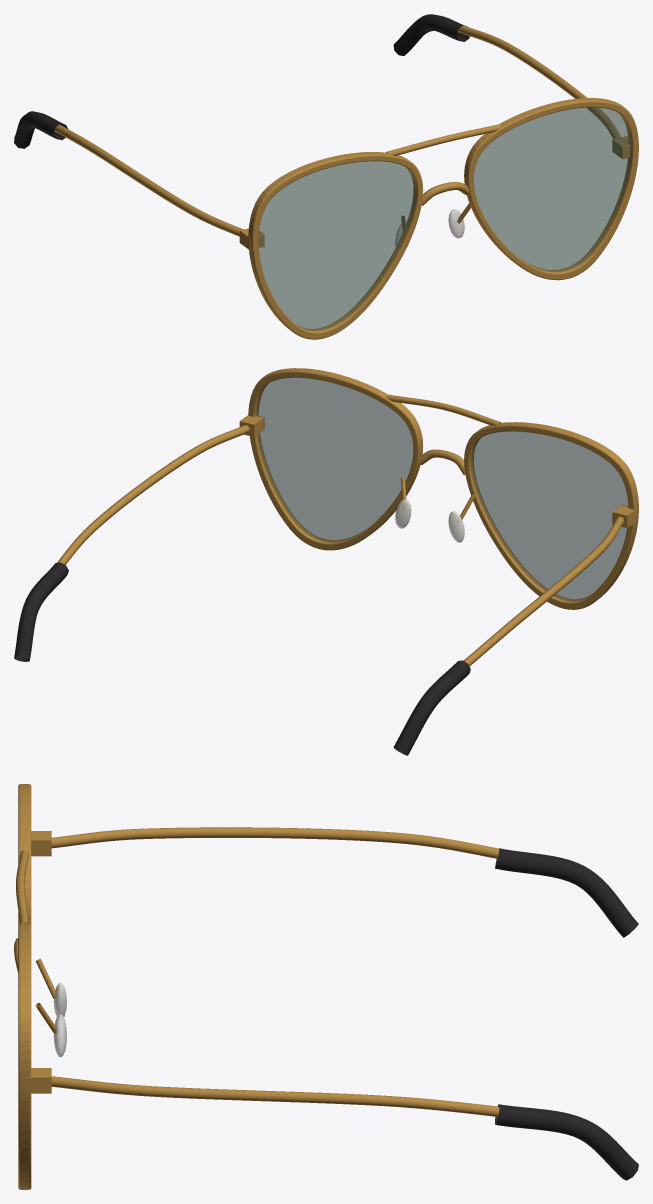
Rendered from tatoe_aviator.glb.
The picture shows the model from 3 angles, top to bottom: view 1: azimuth 30°, elevation 25°; view 2: azimuth 150°, elevation 25°; view 3: azimuth 270°, elevation 25°; orthographic projection. The views are drawn at different scales.
Parts seen in each view (by area): view 1: right_lens, left_lens, left_rim, right_rim, left_temple, right_temple, right_ear_tip, left_ear_tip, brow_bar, bridge; view 2: right_lens, left_lens, left_rim, right_rim, right_temple, left_ear_tip, left_temple, right_ear_tip, brow_bar; view 3: right_temple, left_temple, right_rim, left_ear_tip, right_ear_tip, left_rim, brow_bar, right_hinge.
Boxes of the visible parts, box(x1,y1,x2,y2) form: right_lens: box(474, 107, 631, 271); left_lens: box(259, 161, 415, 330); left_rim: box(248, 152, 423, 339); right_rim: box(464, 98, 638, 280); left_temple: box(54, 124, 243, 236); right_temple: box(457, 25, 620, 138); right_ear_tip: box(393, 14, 469, 55); left_ear_tip: box(14, 111, 67, 148); brow_bar: box(386, 124, 501, 155); bridge: box(421, 182, 469, 205); right_lens: box(256, 377, 413, 541); left_lens: box(471, 431, 628, 600); left_rim: box(464, 422, 638, 609); right_rim: box(248, 368, 423, 550); right_temple: box(57, 425, 249, 564); left_ear_tip: box(393, 660, 470, 755); left_temple: box(463, 516, 624, 666); right_ear_tip: box(14, 562, 68, 661); brow_bar: box(386, 394, 501, 425); right_temple: box(51, 1076, 499, 1116); left_temple: box(51, 827, 499, 858); right_rim: box(18, 923, 31, 1189); left_ear_tip: box(495, 848, 638, 937); right_ear_tip: box(495, 1104, 638, 1180); left_rim: box(18, 784, 31, 924); brow_bar: box(16, 849, 28, 923); right_hinge: box(24, 1068, 51, 1093).
Size of the model in its own units: 0.1427 by 0.0568 by 0.1402.
